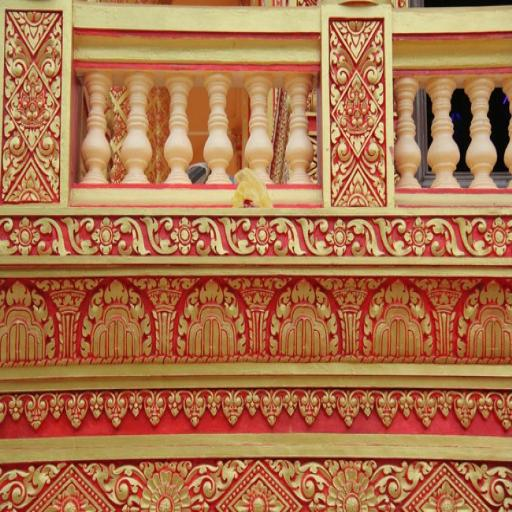hoa: (11, 64, 59, 144), (340, 80, 380, 153), (8, 159, 56, 206), (334, 15, 379, 63), (331, 464, 374, 512), (10, 11, 61, 50), (144, 468, 186, 512), (236, 480, 284, 512), (427, 477, 470, 512), (342, 167, 374, 211), (12, 213, 41, 255), (252, 214, 280, 257), (95, 213, 122, 257), (49, 483, 89, 512), (330, 215, 354, 255), (406, 219, 431, 257), (488, 215, 510, 258), (172, 221, 196, 257)
la: (78, 278, 154, 365), (265, 279, 338, 362), (177, 280, 249, 362), (362, 280, 434, 354), (0, 281, 57, 362), (460, 278, 512, 356), (184, 456, 246, 512), (371, 459, 434, 512), (0, 459, 61, 512), (274, 456, 331, 512), (87, 459, 147, 512), (459, 462, 512, 512), (430, 215, 493, 255), (350, 215, 411, 254), (194, 213, 251, 254), (118, 213, 176, 253), (37, 215, 97, 253), (272, 217, 332, 255), (64, 390, 88, 432), (260, 389, 284, 431), (181, 389, 206, 429), (24, 392, 47, 435), (335, 390, 360, 429), (416, 388, 439, 430), (105, 389, 127, 431), (222, 390, 245, 430), (454, 392, 478, 430), (144, 389, 166, 430), (375, 387, 397, 428), (299, 389, 321, 428), (494, 392, 512, 432)
